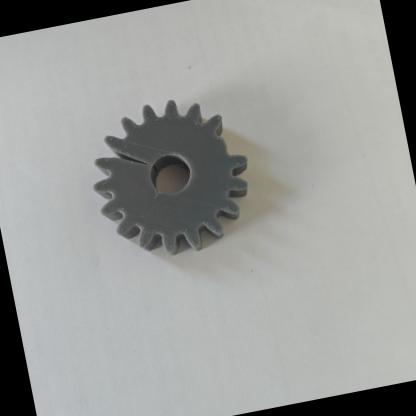defect: (74, 120, 168, 204), (198, 102, 260, 173)
gear: (55, 67, 285, 298)
